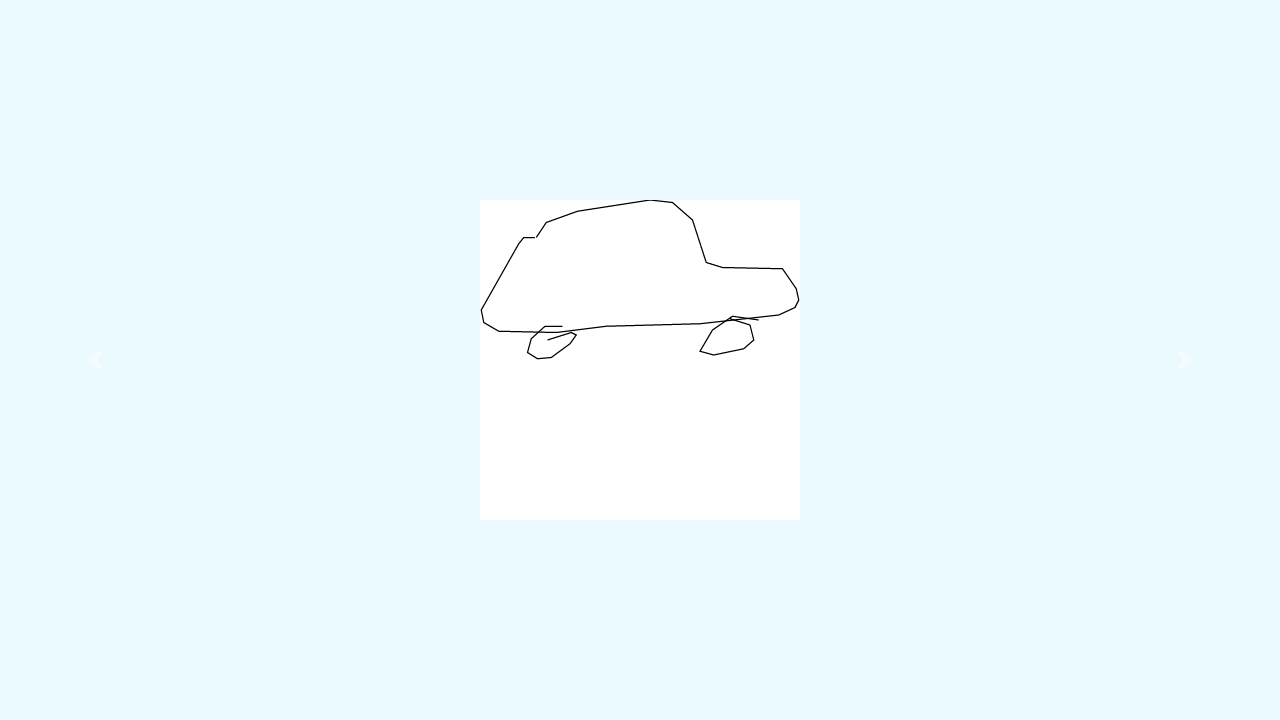car: (476, 197, 803, 360)
